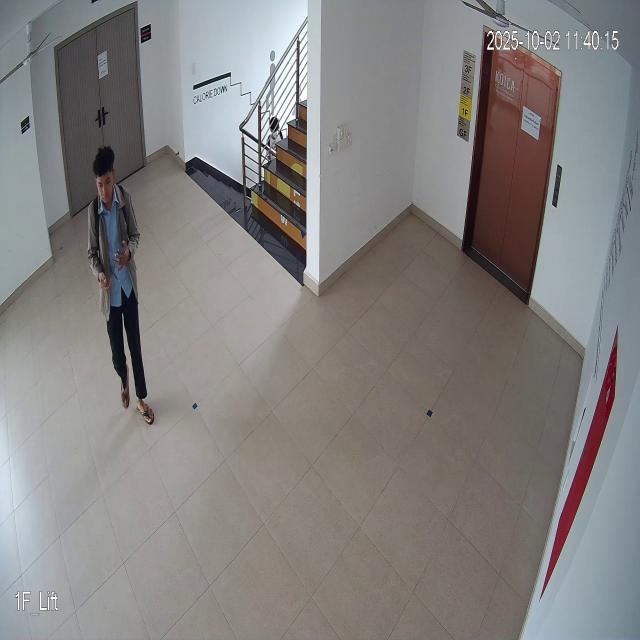face: (88, 145, 126, 205)
